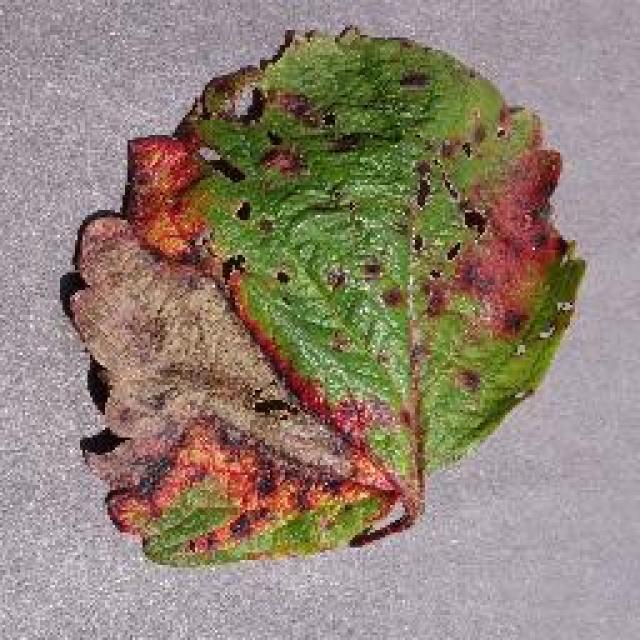Strawberry leaf scorch: (124, 165, 454, 482)
